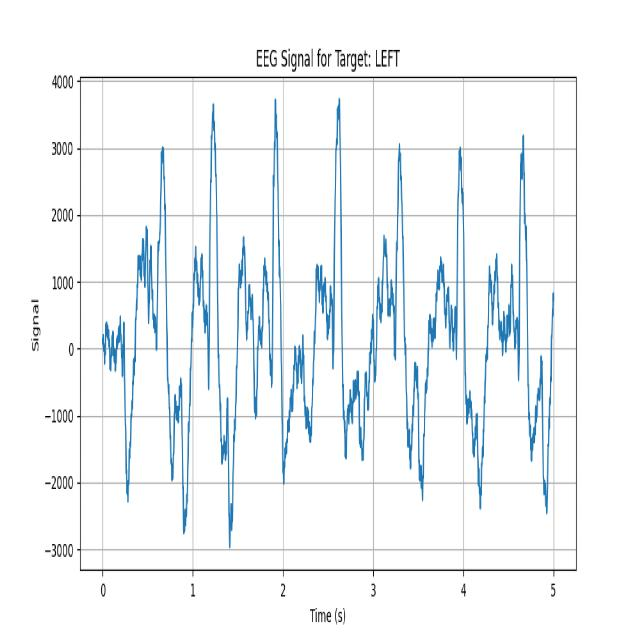LEFT: (302, 88, 367, 555), (481, 79, 543, 554), (240, 91, 302, 563), (422, 84, 481, 557), (367, 86, 423, 543), (189, 93, 240, 556), (135, 132, 187, 538)
